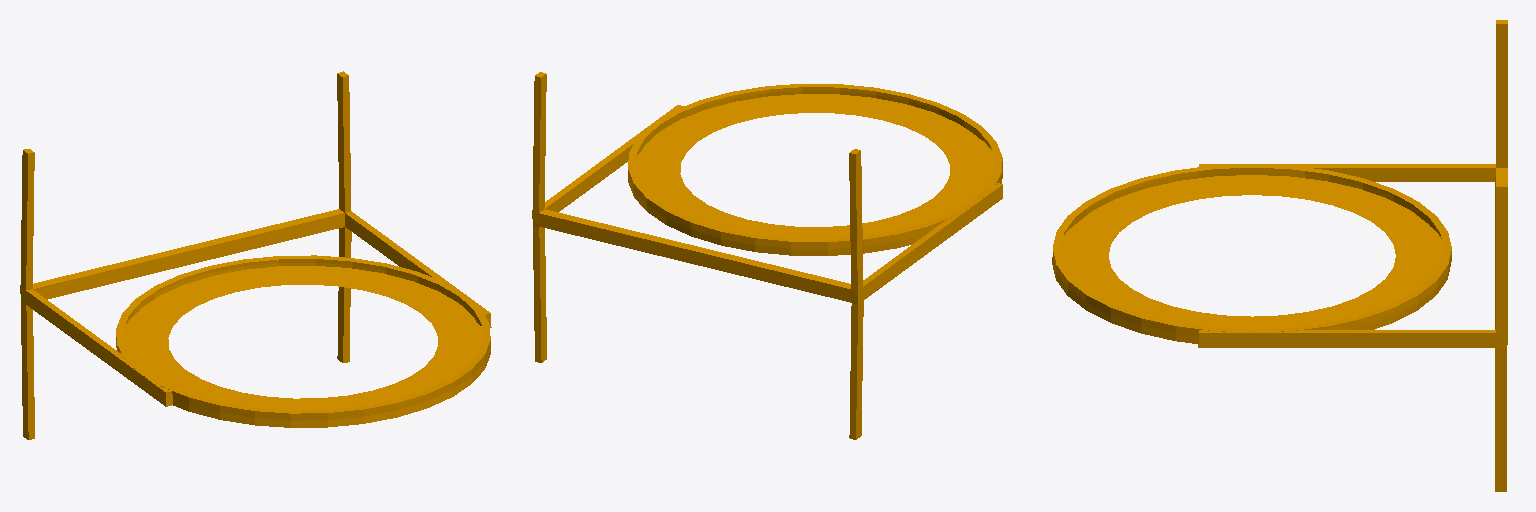
The robot description file, URDF, robot "circle1_5m":
<?xml version='1.0' encoding='UTF-8'?>
<robot name="circle1_5m">
  <link name="base_link">
    <visual name="base_link_visual">
      <geometry>
        <mesh filename="circleX1.5m.dae" scale="1. 1. 1."/>
      </geometry>
      <origin xyz="0 0 0" rpy="1.57 0 0"/>
    </visual>
    <collision name="base_link_collision">
      <geometry>
        <mesh filename="circleX1.5m.dae" scale="1. 1. 1."/>
      </geometry>
      <origin xyz="0 0 0" rpy="1.57 0 0"/>
    </collision>
  </link>
</robot>

--- What the picture shows (computed from the rendered views, not written in the file) ---
3 views of the same robot in one strip: view 1: azimuth 30°, elevation 25°; view 2: azimuth 150°, elevation 25°; view 3: azimuth 270°, elevation 25° (orthographic).
Robot: circle1_5m — 1 links, 0 joints (none); root link base_link; default pose: all joints at 0.
Links seen in each view (by area): view 1: base_link; view 2: base_link; view 3: base_link.
Link boxes in pixels (<box>): base_link: <box>20,71,491,439</box>; base_link: <box>532,72,1002,439</box>; base_link: <box>1052,20,1507,491</box>.
Bounding box of the posed robot: 1.34 × 1.53 × 1.13 m (x, y, z).
Meshes: 1 distinct files referenced, 1 mesh visuals loaded (1 Collada DAE).